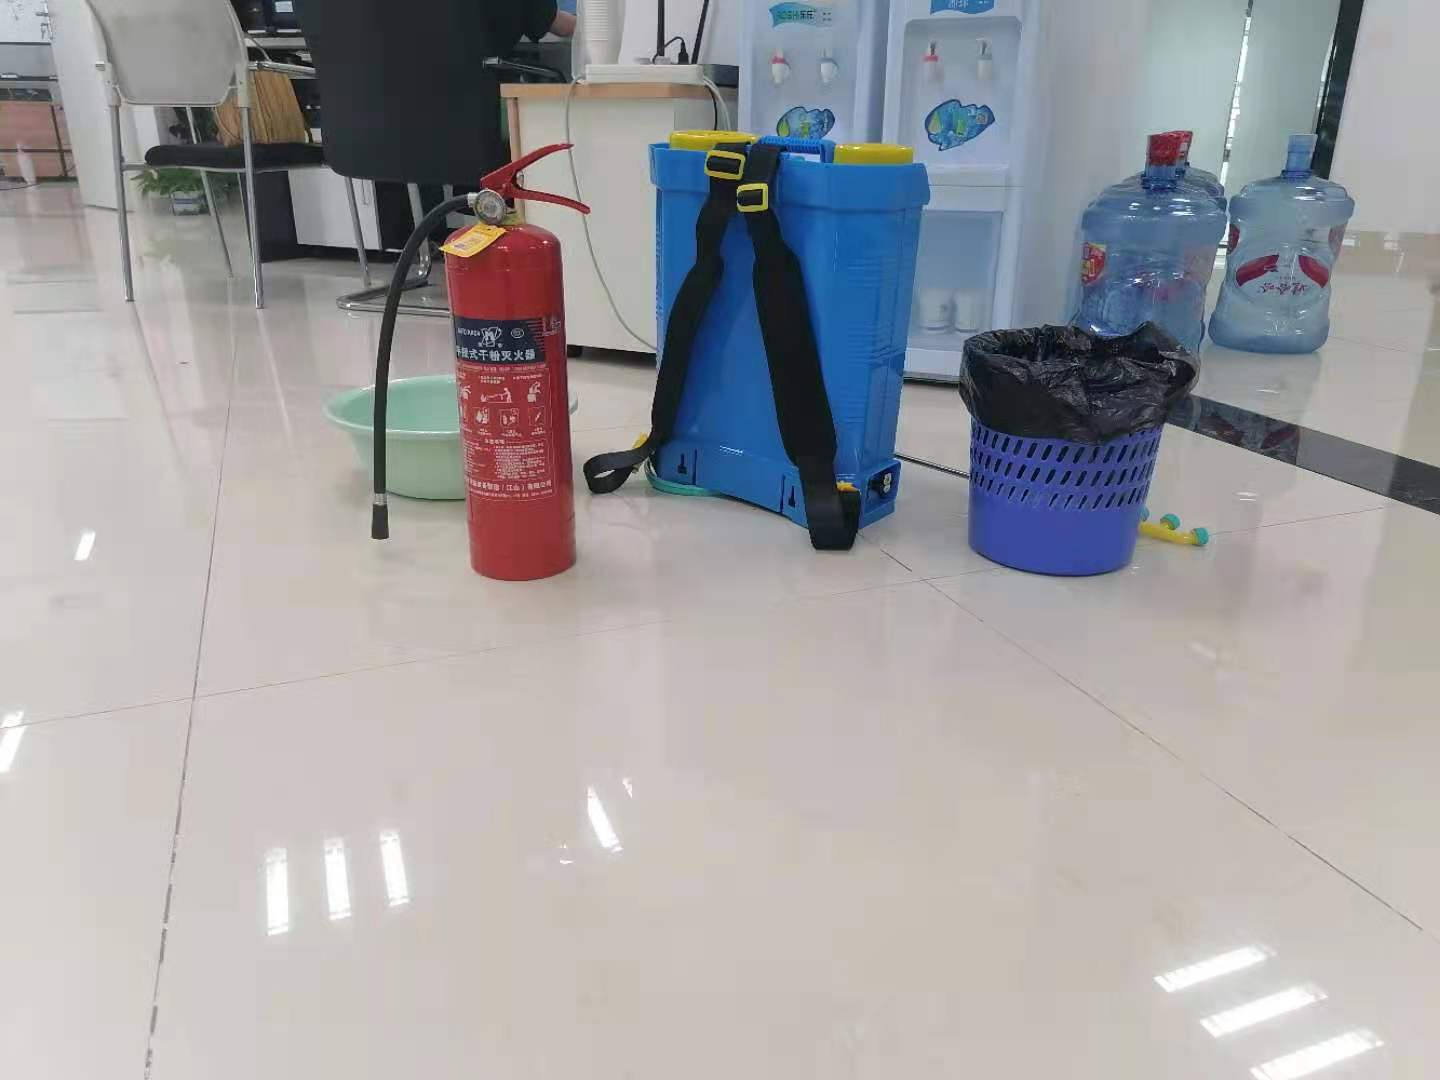berrl: (644, 121, 934, 535)
